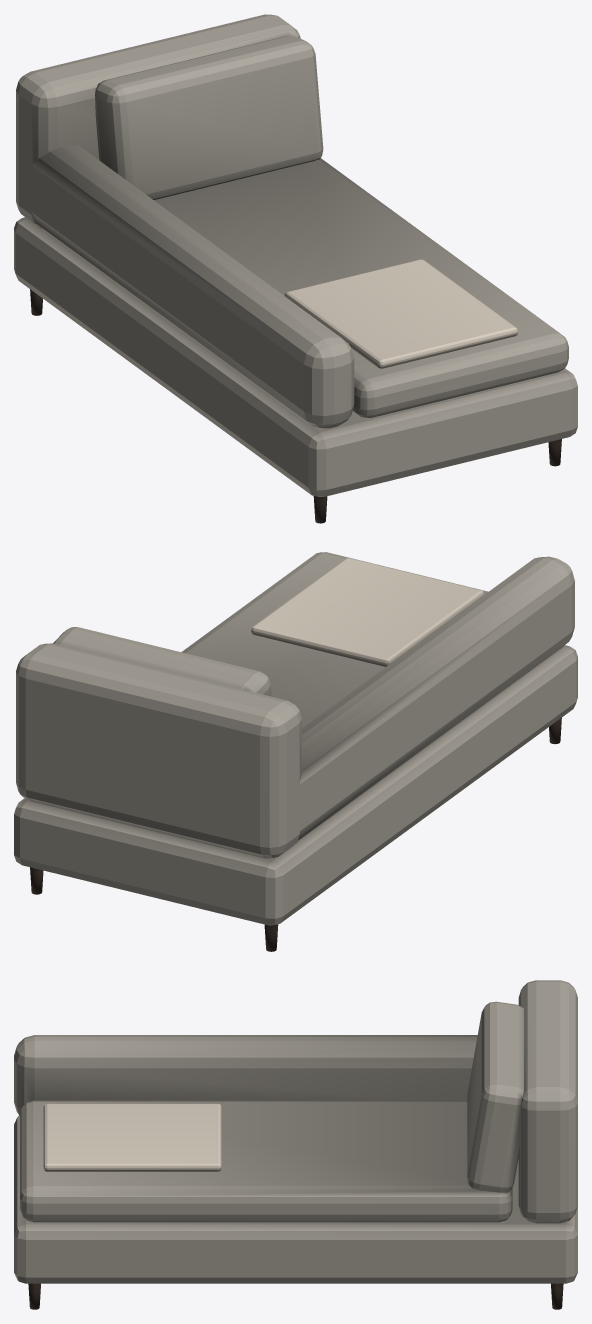
The model's file is chaise.glb.
3 renders of one model, top to bottom at view 1: azimuth 30°, elevation 25°; view 2: azimuth 150°, elevation 25°; view 3: azimuth 270°, elevation 25°, orthographic. The views are drawn at different scales.
Parts seen in each view (by area): view 1: sofa, seat; view 2: sofa, seat; view 3: sofa, seat.
Boxes of the visible parts, box(x1,y1,x2,y2) form: sofa: box(14, 14, 577, 523); seat: box(154, 158, 568, 417); sofa: box(14, 556, 577, 951); seat: box(181, 552, 488, 727); sofa: box(14, 980, 577, 1309); seat: box(20, 1100, 512, 1222).
Bounding box in the file's own units: 0.96 × 0.823 × 1.9.
